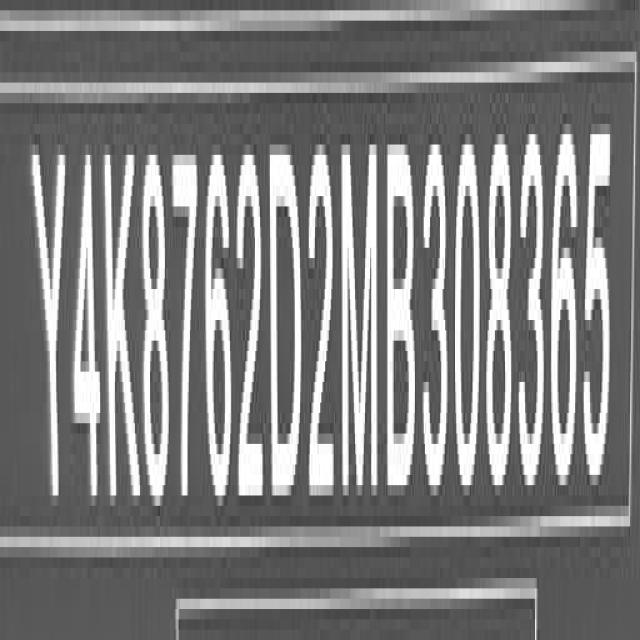0: (456, 129, 484, 501)
2: (307, 132, 340, 510), (235, 131, 266, 515)
3: (422, 130, 451, 503), (519, 126, 547, 500)
4: (71, 137, 103, 513)
5: (585, 110, 618, 493)
6: (204, 138, 234, 515), (550, 117, 579, 493)
7: (175, 131, 202, 515)
8: (484, 126, 515, 505), (141, 133, 171, 515)
B: (388, 125, 419, 503)
D: (269, 135, 304, 513)
K: (101, 123, 140, 532)
M: (339, 126, 381, 493)
Y: (31, 145, 69, 516)
